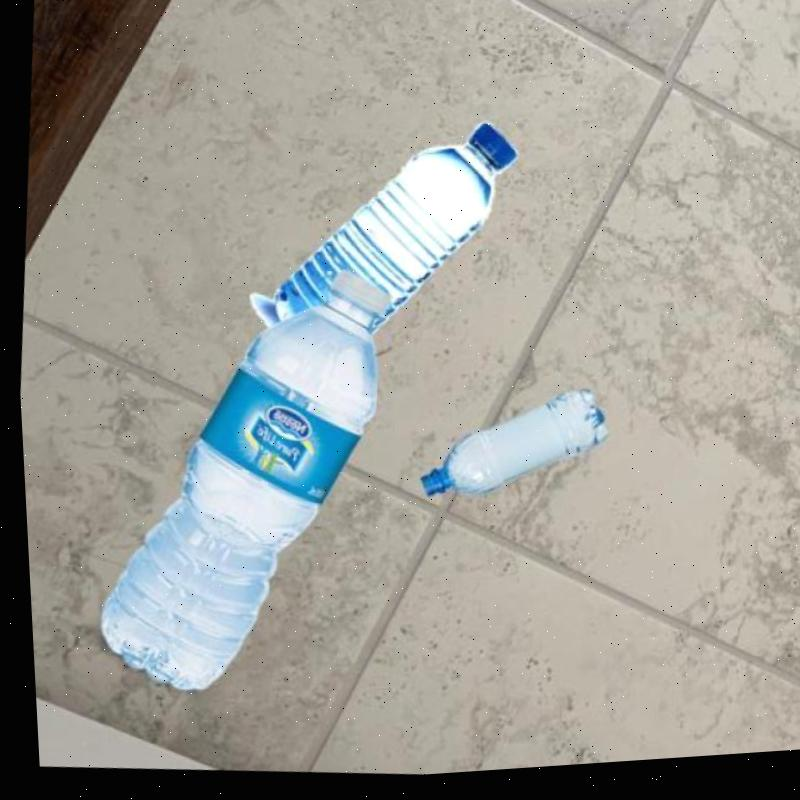botella: (72, 251, 402, 713), (254, 103, 527, 366), (408, 381, 607, 518)
